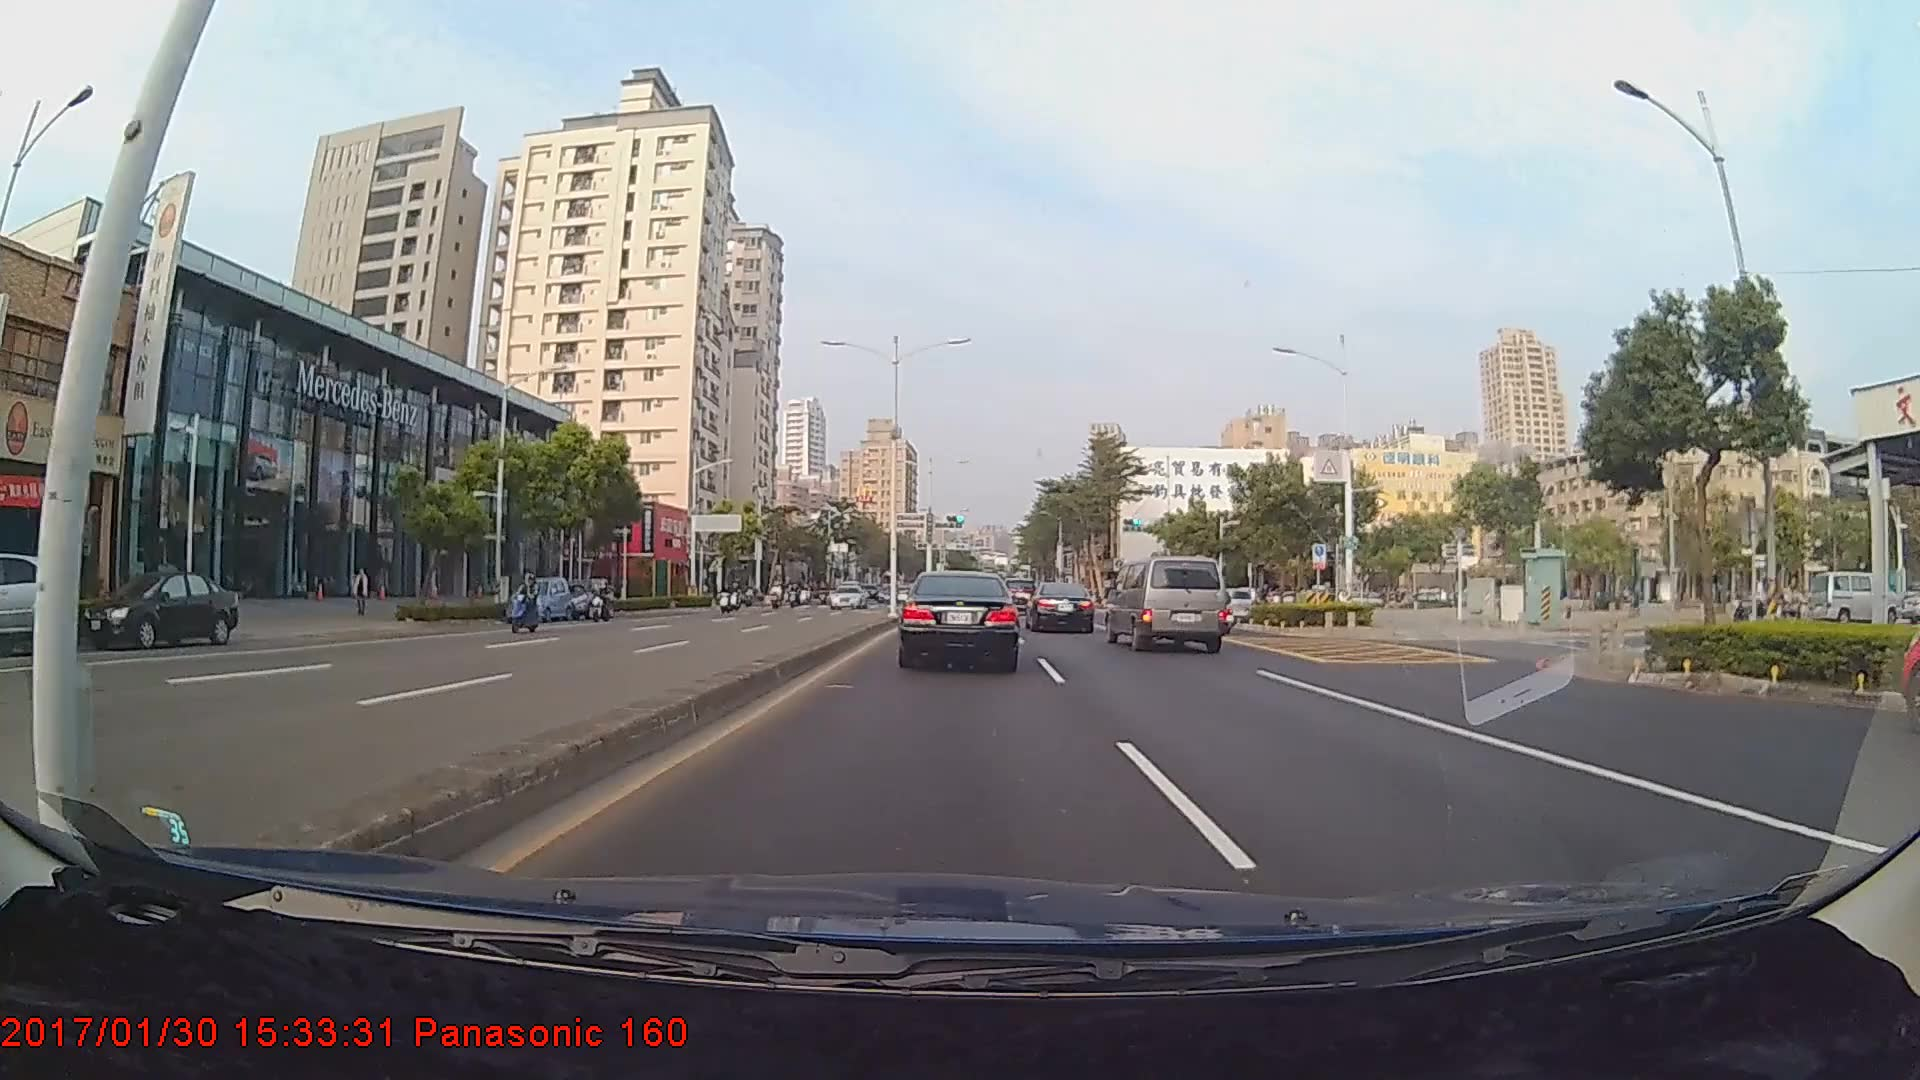pedestrian: (351, 565, 373, 620)
rider: (510, 567, 547, 638), (589, 580, 620, 627)
vehicle: (897, 569, 1020, 671), (80, 571, 239, 649), (1104, 555, 1228, 653), (1027, 581, 1095, 634), (505, 577, 571, 624), (557, 577, 610, 622), (828, 583, 865, 608)
